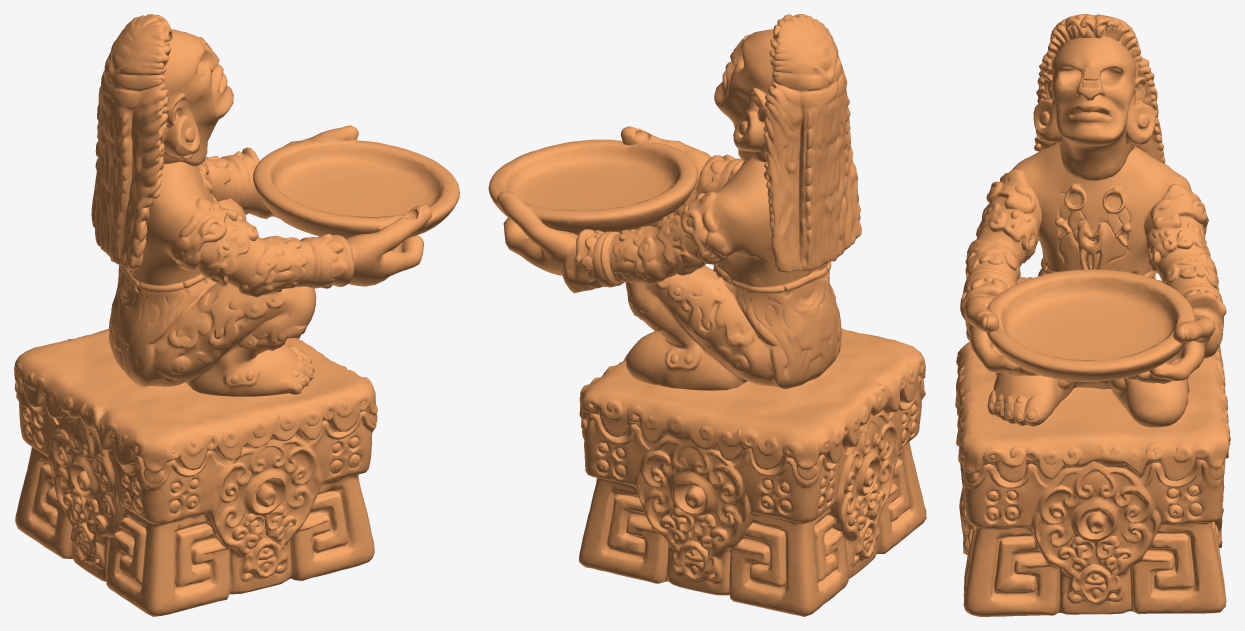
Rendered from xochipilli_offering.raw.glb.
3 views of the same model, side by side, from view 1: azimuth 30°, elevation 25°; view 2: azimuth 150°, elevation 25°; view 3: azimuth 270°, elevation 25° (orthographic).
Visible parts, largest first — view 1: geogram_remesh; view 2: geogram_remesh; view 3: geogram_remesh.
Part boxes in pixels (x1,y1,x2,y2): geogram_remesh: (14, 14, 459, 616); geogram_remesh: (488, 14, 926, 616); geogram_remesh: (955, 14, 1230, 616).
Size of the model in its own units: 0.7211 by 0.9791 by 0.4619.
